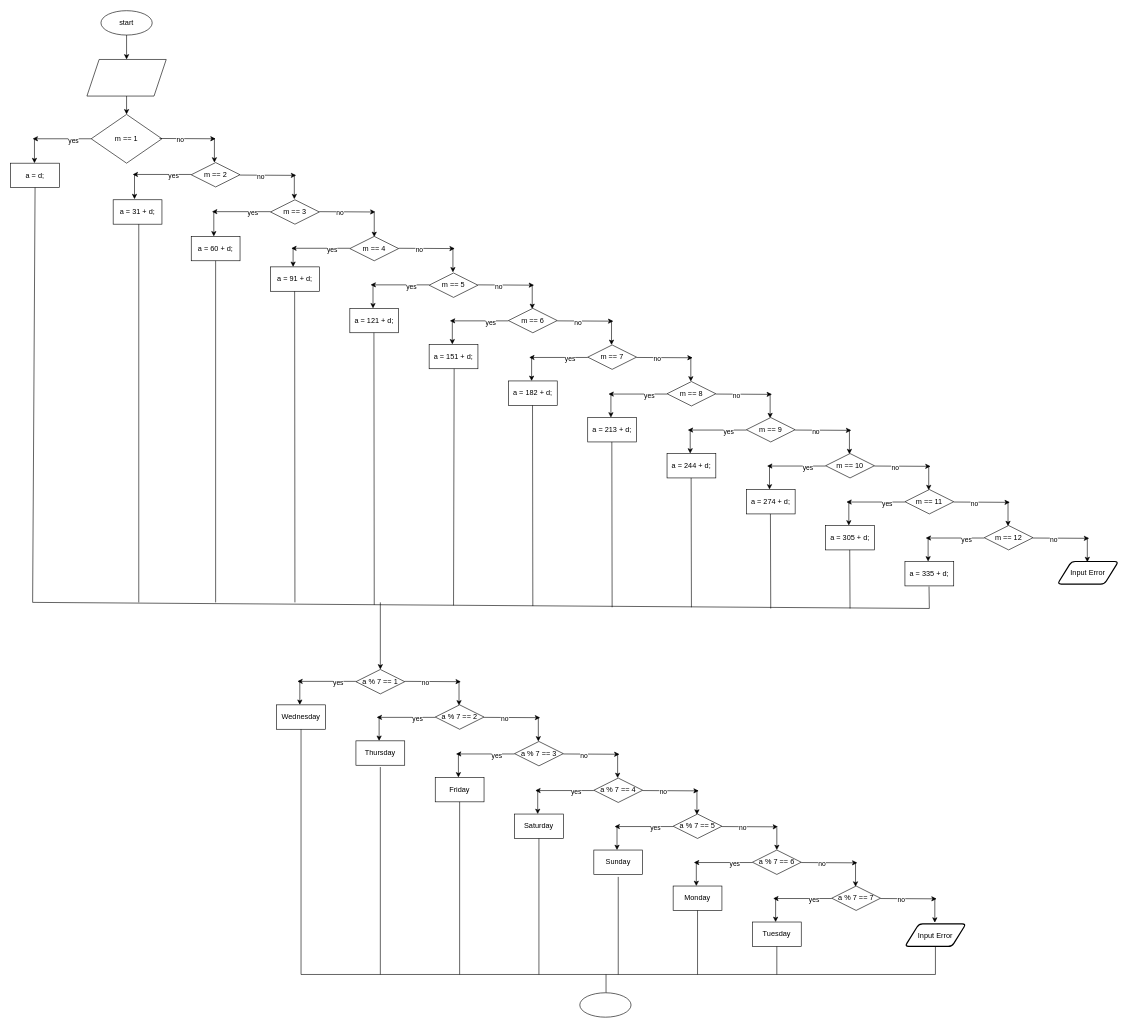
The diagram is 1130 pixels wide and 1028 high, and some of its shapes have lost their labels. The centre of each missing label's shape, as x and y in pixels:
"d(1;31), m(1;12), a(1;365)" goes at pixel 126 77.
"end" goes at pixel 605 1004.
